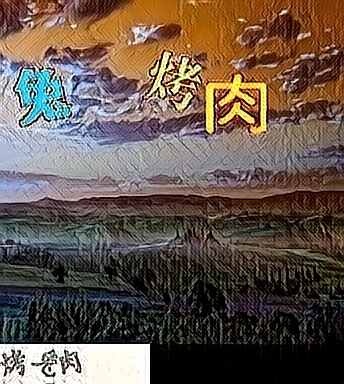BFBE: (138, 45, 203, 109)
C8E2: (204, 72, 269, 136)
CDC3: (8, 62, 73, 126)
